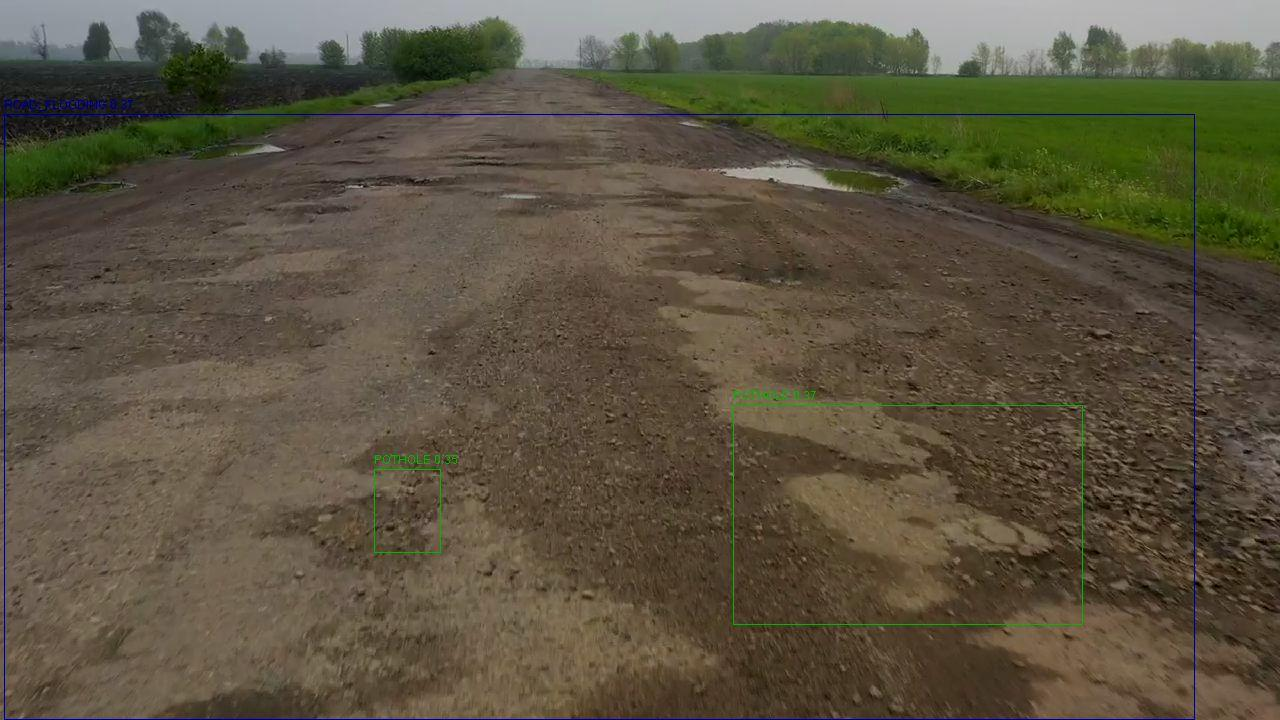ROAD_OBSTACLE: (506, 436, 800, 572)
